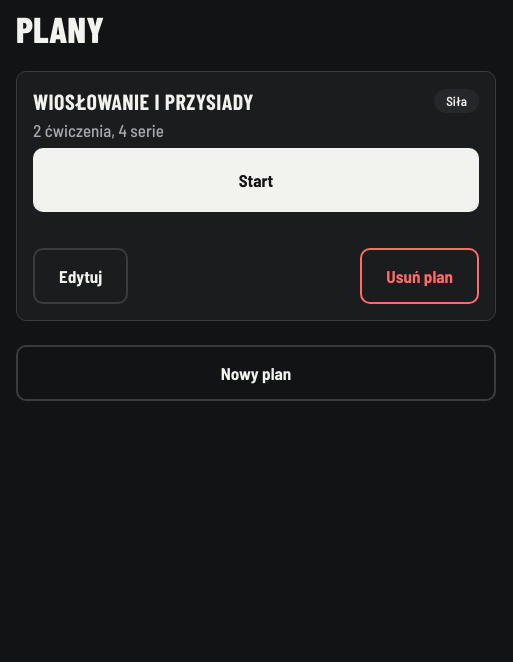
Test: "Cofnij" on the rest view › undoes only the set that started the rest, one step
This screenshot has width=513, height=662.
Click the button "Start": (256, 180) [33,148,479,212]
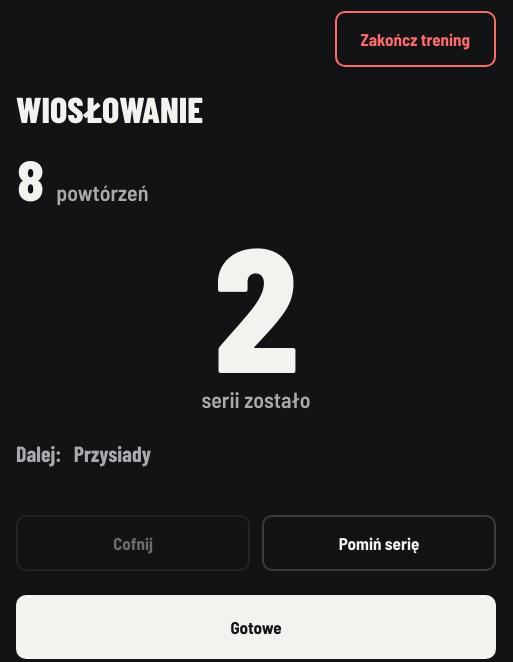
Click the button "Gotowe": (256, 627) [16,595,496,659]
(page scrolled)
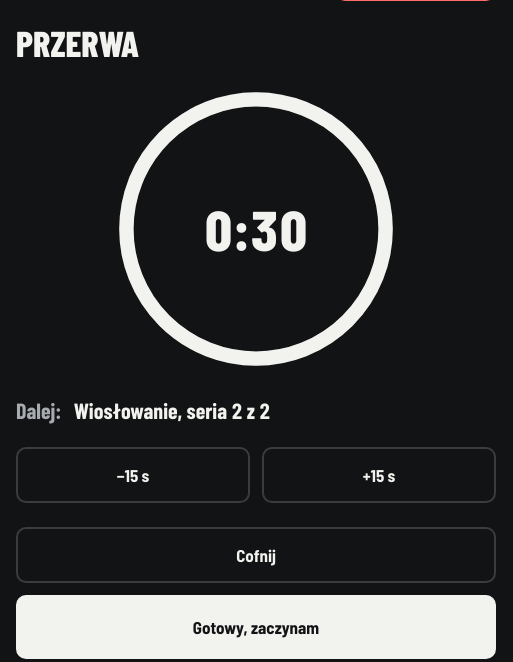
Click the button "Gotowy, zaczynam": (256, 627) [16,595,496,659]
(page scrolled)
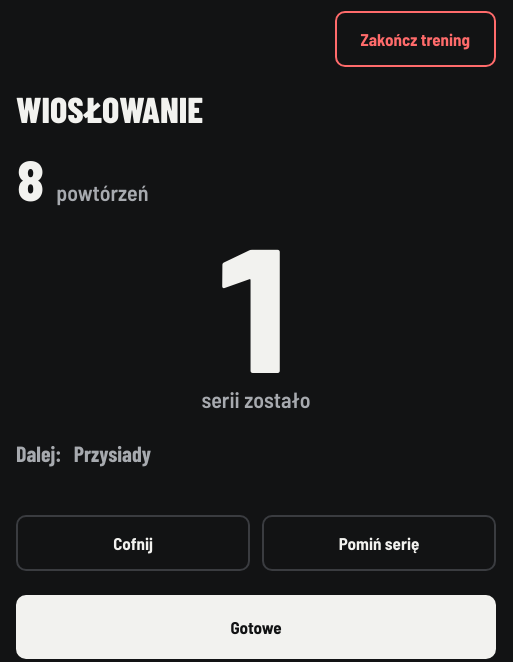
Click the button "Gotowe": (256, 627) [16,595,496,659]
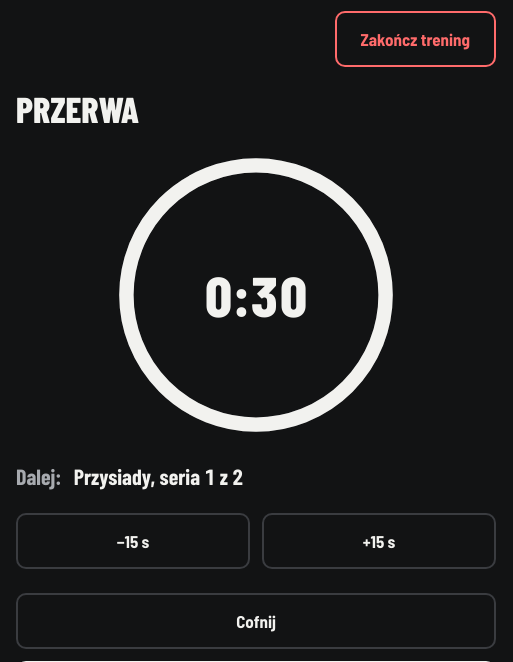
Click the button "Cofnij": (256, 621) [16,593,496,649]
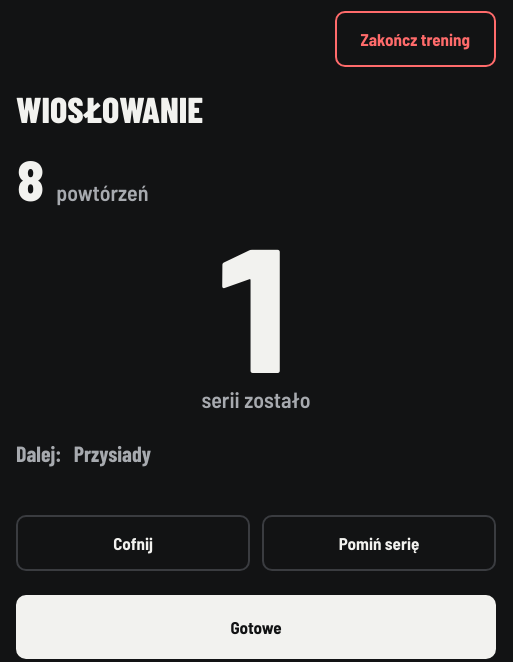
Expected: the heading "Wiosłowanie" is shown, [16,87,203,130]
